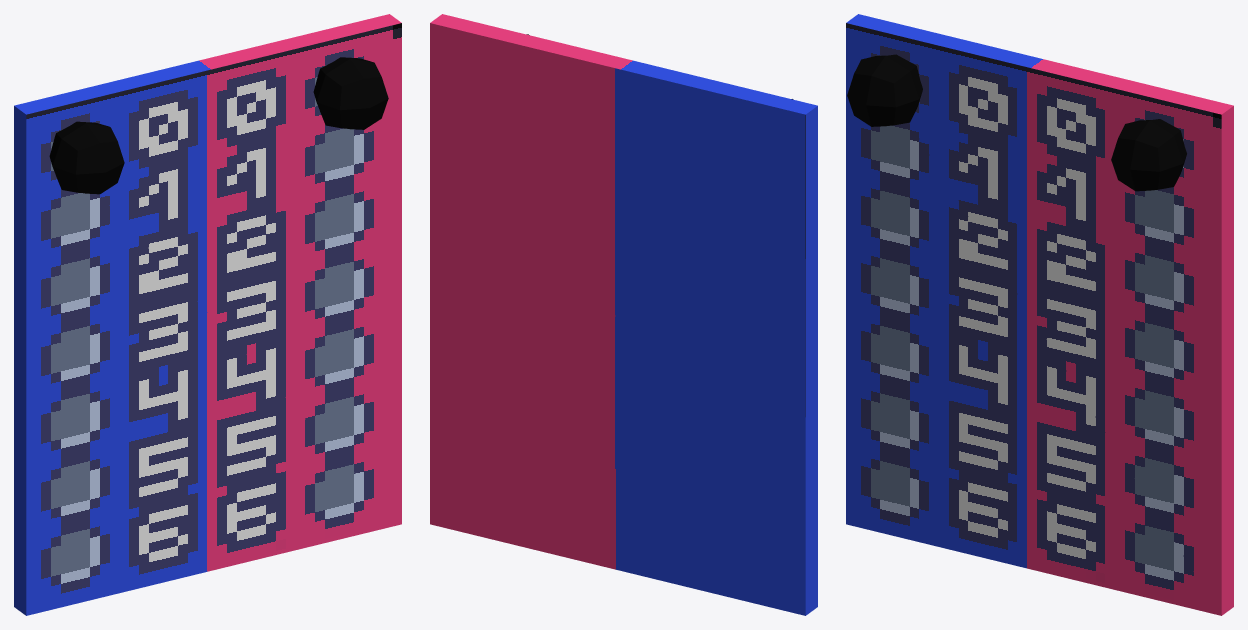
The model's file is score_mini.glb.
3 renders of one model, left to right at view 1: azimuth 30°, elevation 25°; view 2: azimuth 150°, elevation 25°; view 3: azimuth 330°, elevation 25°, orthographic.
Parts seen in each view (by area): view 1: scoreboard, bolita rosa, bolita azul; view 2: scoreboard; view 3: scoreboard, bolita azul, bolita rosa.
Boxes of the visible parts, left/top/right/bottom form: scoreboard: left=14, top=14, right=401, bottom=615; bolita rosa: left=313, top=57, right=388, bottom=129; bolita azul: left=49, top=121, right=124, bottom=194; scoreboard: left=430, top=14, right=817, bottom=615; scoreboard: left=846, top=14, right=1233, bottom=615; bolita azul: left=847, top=54, right=922, bottom=126; bolita rosa: left=1111, top=119, right=1186, bottom=191.
Size of the model in its own units: 1.77 by 2.25 by 0.3407.
3 materials, 1 textured.
